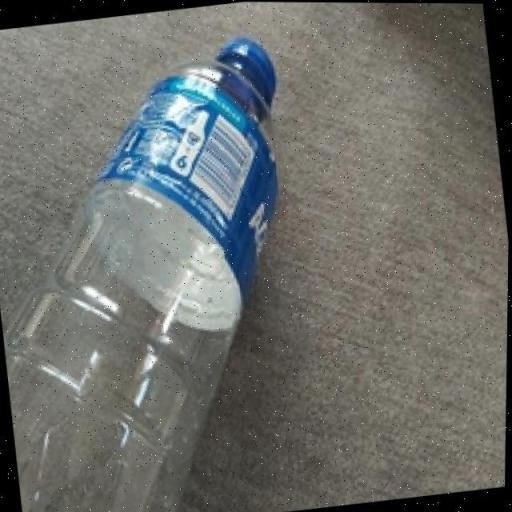plastic: (0, 25, 358, 512)
